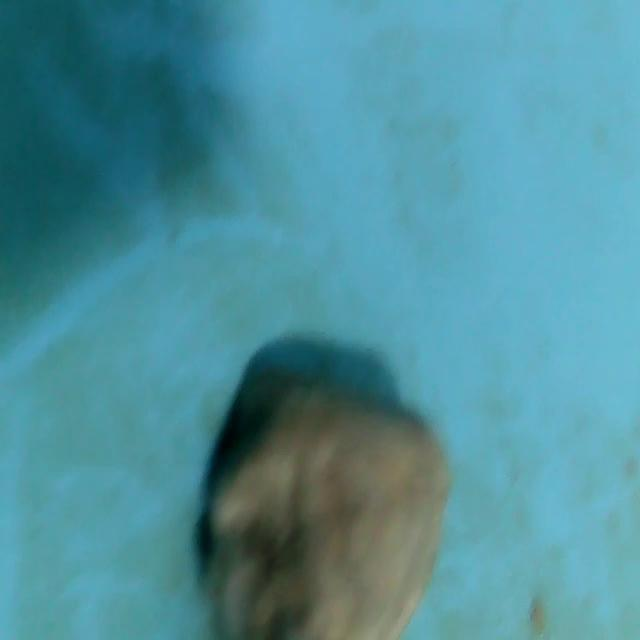rock: (191, 377, 468, 640)
